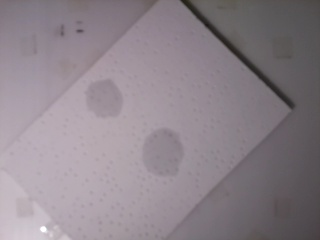Water_detected: (150, 127, 186, 172), (91, 87, 116, 114)
